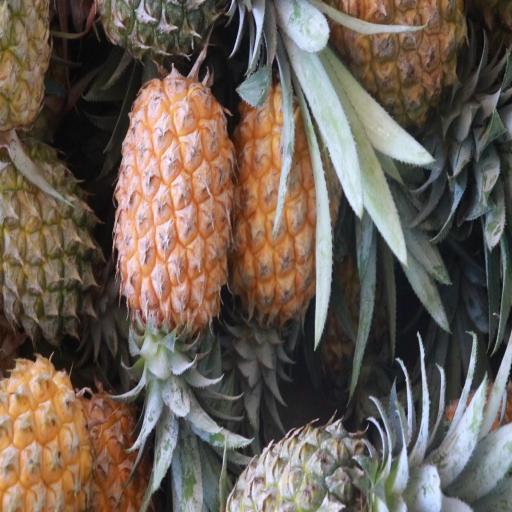------------------------------: (0, 141, 95, 334)
Pineapple - v8 v1: (116, 75, 236, 329), (233, 80, 335, 314), (331, 0, 466, 137), (0, 362, 93, 512)
